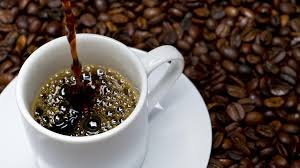cup: (13, 27, 192, 168)
